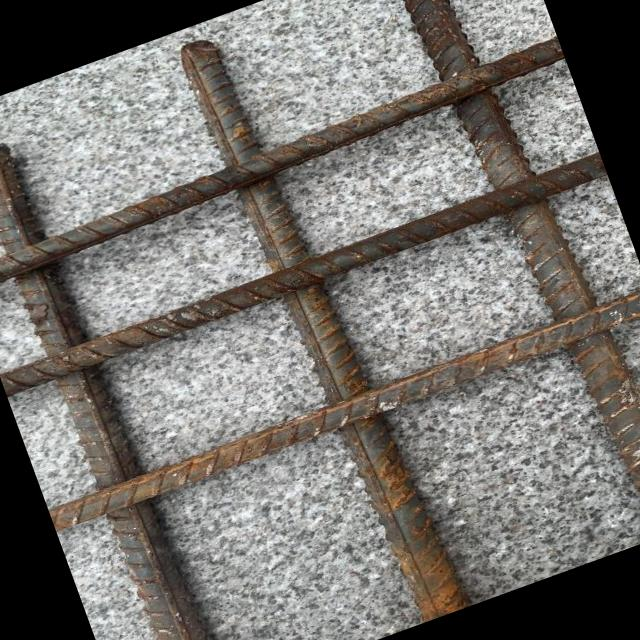ribbed bar: (172, 13, 476, 634), (0, 151, 609, 398), (0, 35, 571, 294), (48, 286, 640, 533), (382, 0, 640, 559), (0, 129, 235, 640)
